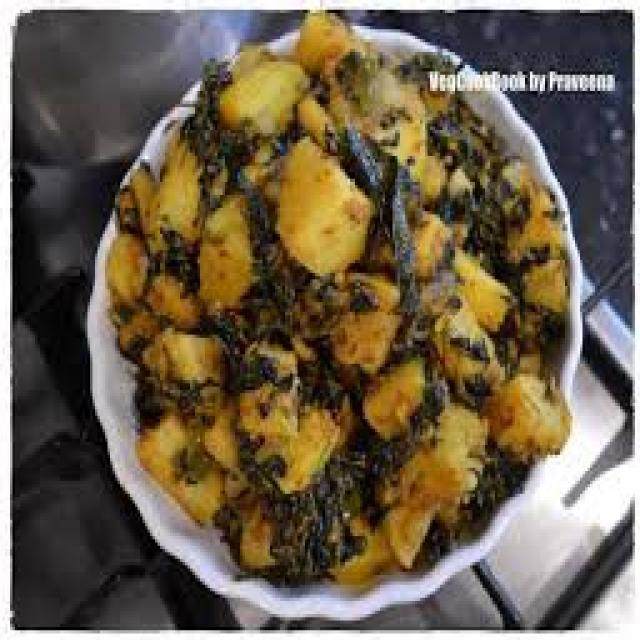Aloo Methi: (99, 9, 570, 592)
